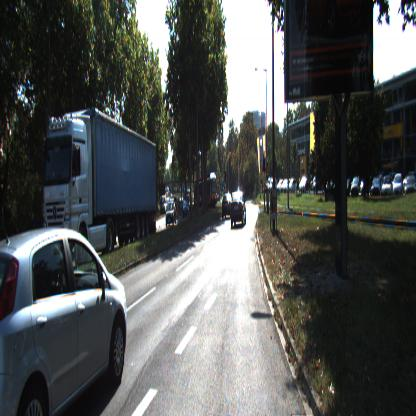car: (2, 224, 132, 416), (227, 182, 252, 238), (162, 178, 177, 228), (382, 175, 404, 197), (404, 176, 416, 195)
